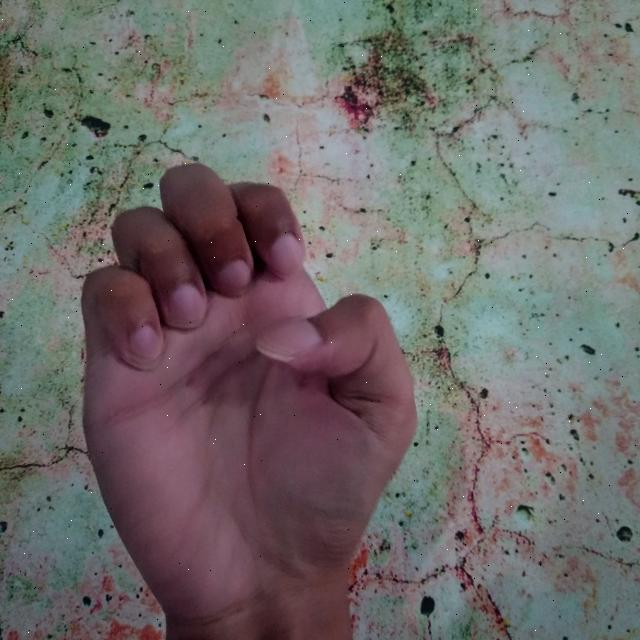E: (79, 162, 419, 640)
